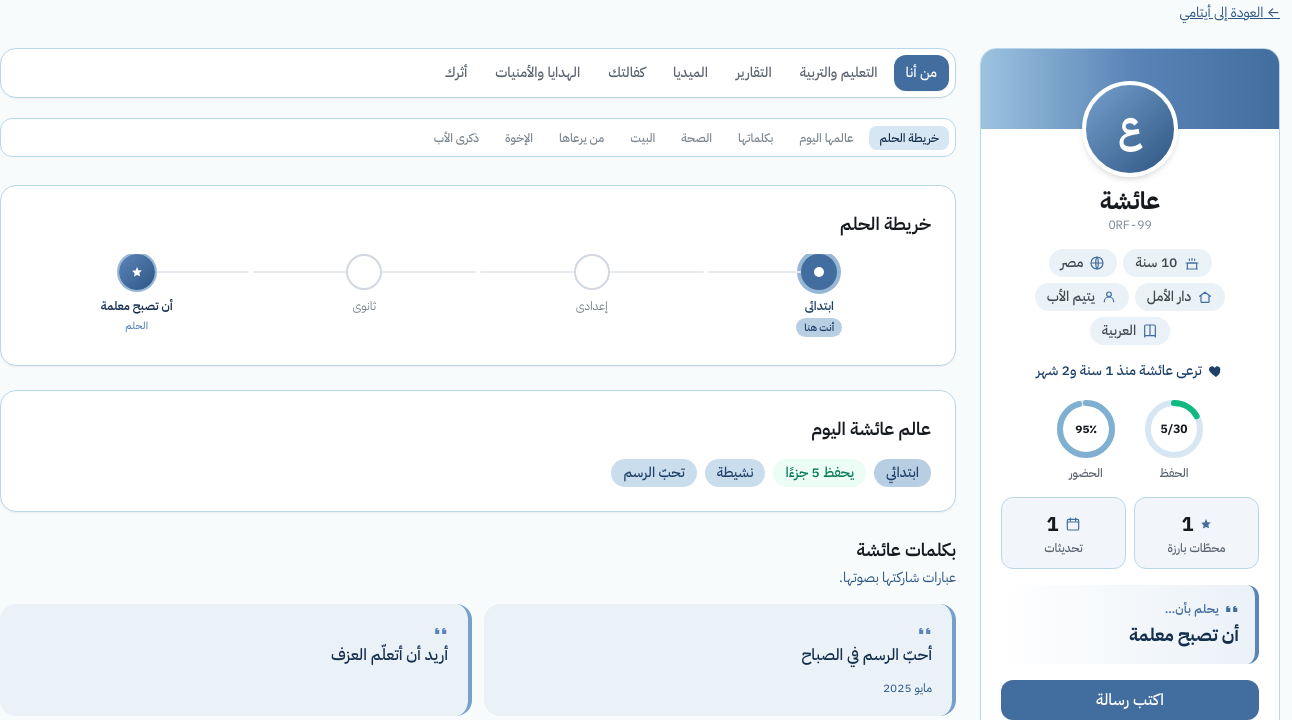
Scenario: DonorOrphanDetailPage — message archive (أرشيف رسائلك إليها) › renders each status with its badge, plus the rejected note
Click the tab "الميديا" at (690, 73), box [661,55,720,91]
(page scrolled)
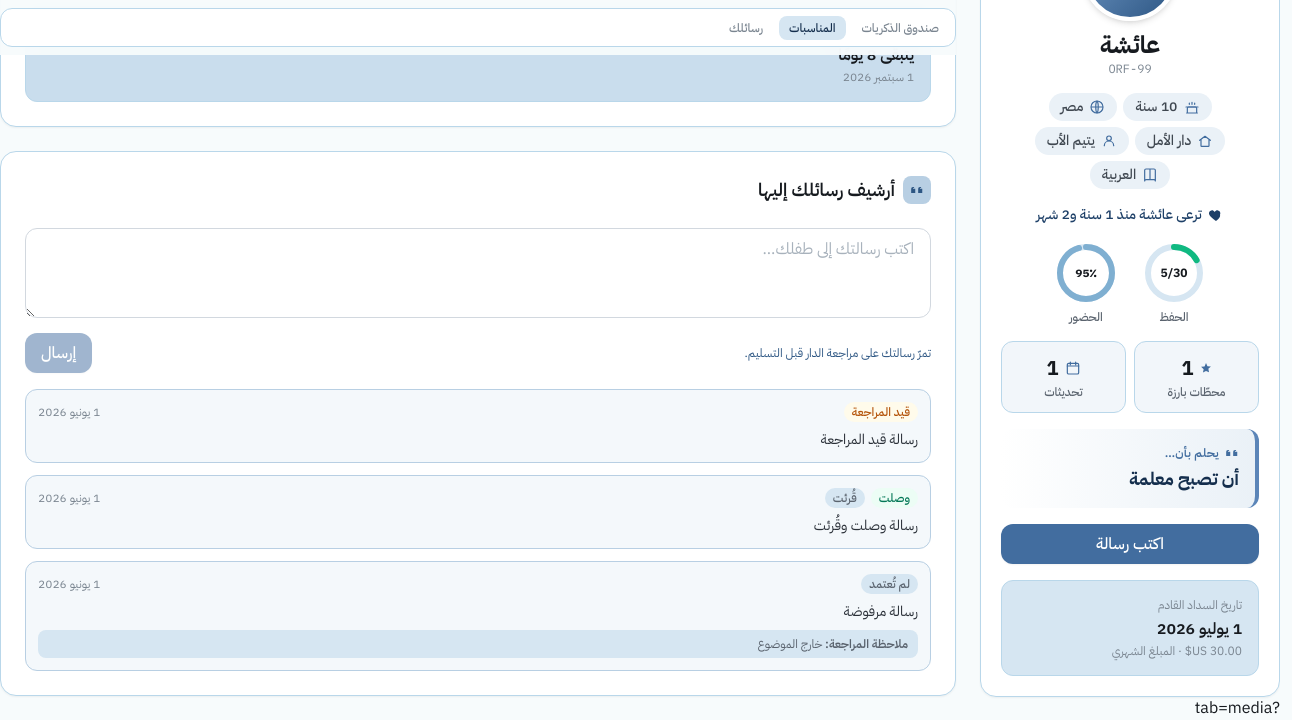
Expected: the text "قيد المراجعة" is shown, [844,402,918,422]
Expected: the text "وصلت" is shown, [871,488,918,508]
Expected: the text "قُرئت" is shown, [825,488,865,508]
